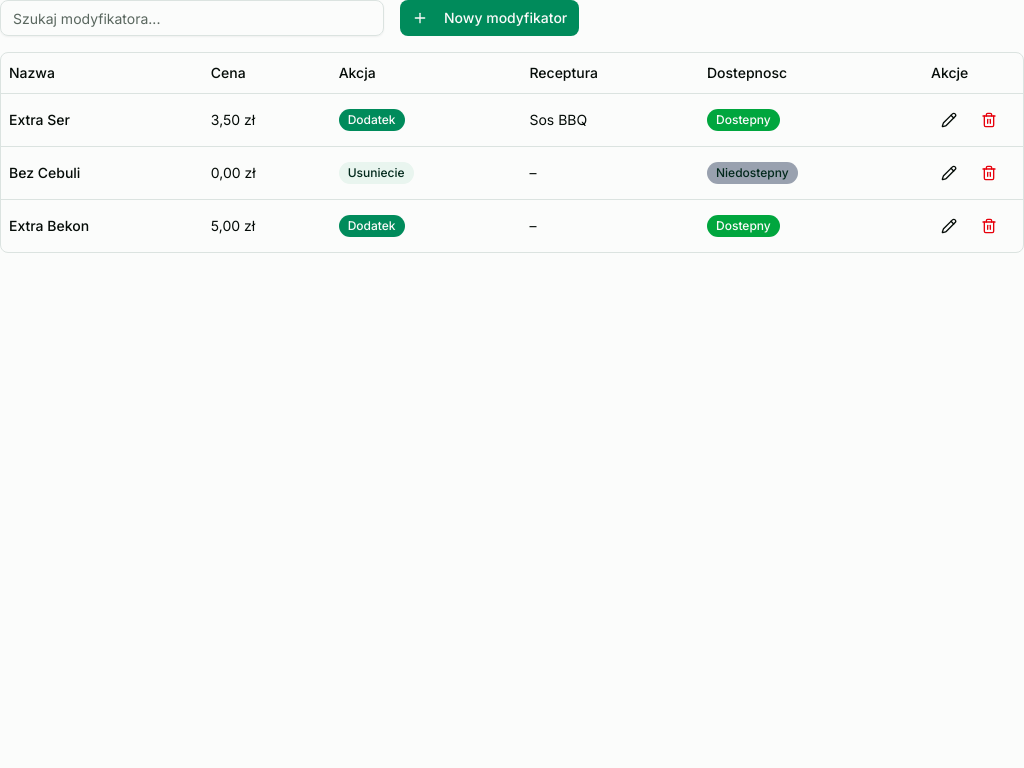
Test: ModifierManagement › opens form dialog when "Nowy modyfikator" clicked
Step 1. Click the button "Nowy modyfikator" → (490, 18), box [400,0,579,36]
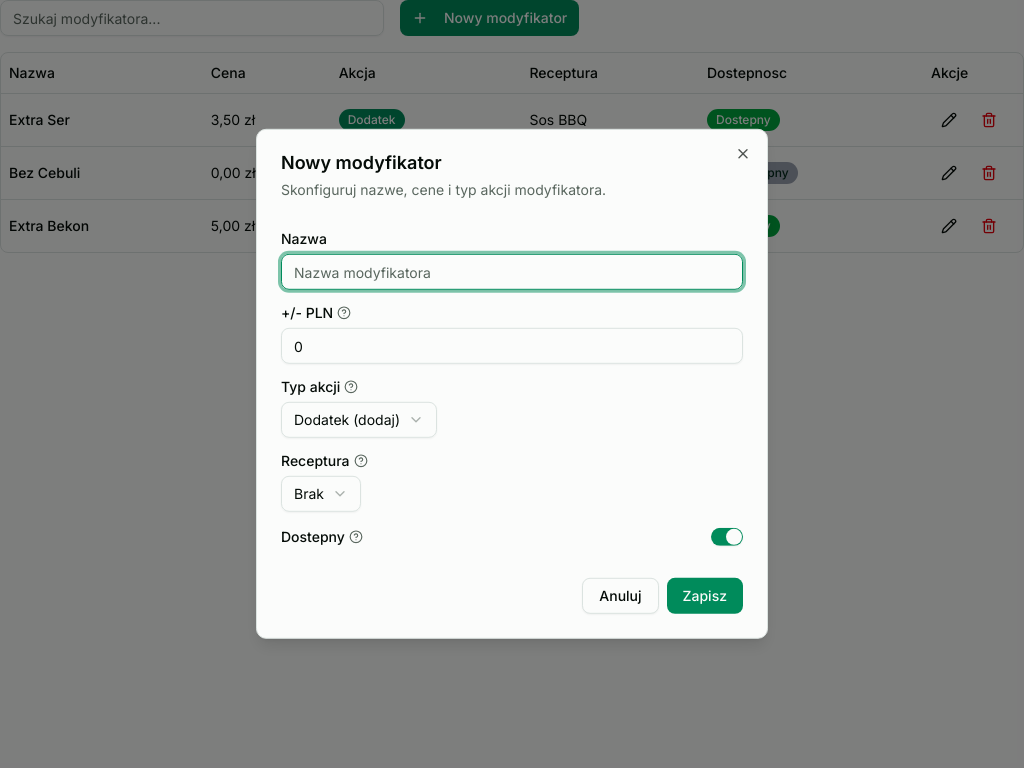
Expected: the dialog is shown, [256,129,768,639]
Expected: the heading "Nowy modyfikator" is shown, [281,152,442,173]
